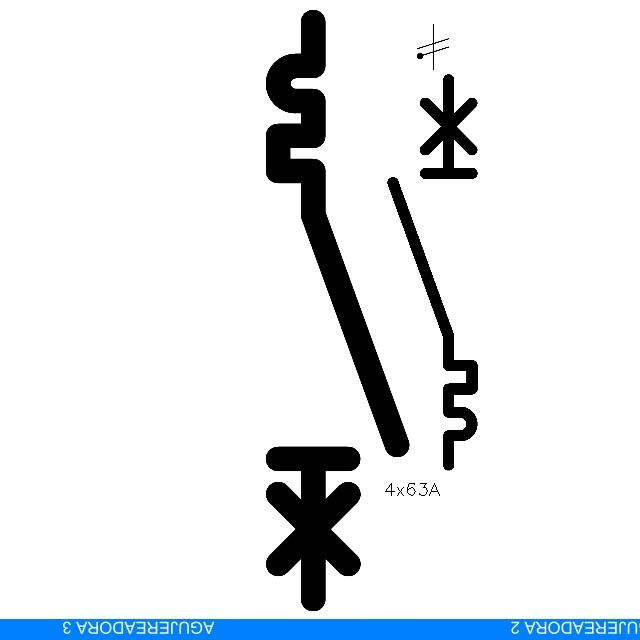interruptor_termomagnetico: (263, 7, 411, 614), (383, 69, 482, 474)
